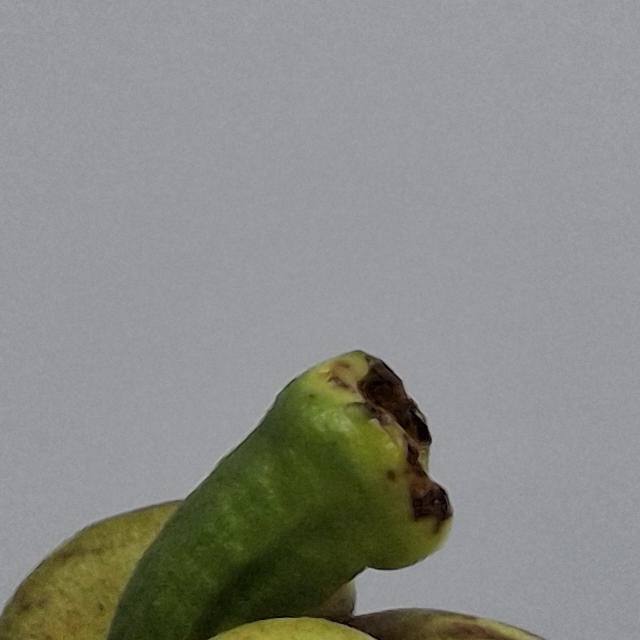mangosteen: (0, 225, 640, 640)
